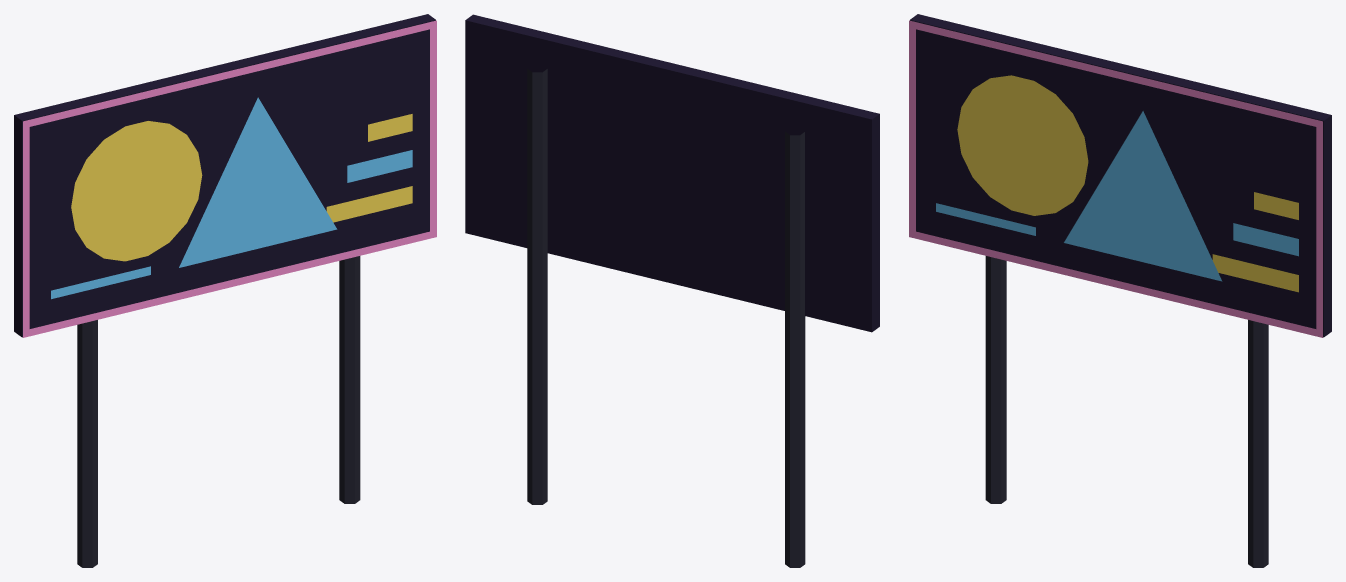
The model's file is sign.glb.
3 views of the same model, side by side, from view 1: azimuth 30°, elevation 25°; view 2: azimuth 150°, elevation 25°; view 3: azimuth 330°, elevation 25° (orthographic).
Parts seen in each view (by area): view 1: root; view 2: root; view 3: root.
Boxes of the visible parts, x1,y1,x2,y2 form: root: (14,14,436,567); root: (465,14,879,567); root: (909,14,1331,567).
Size of the model in its own units: 6 by 6.5 by 0.425.
